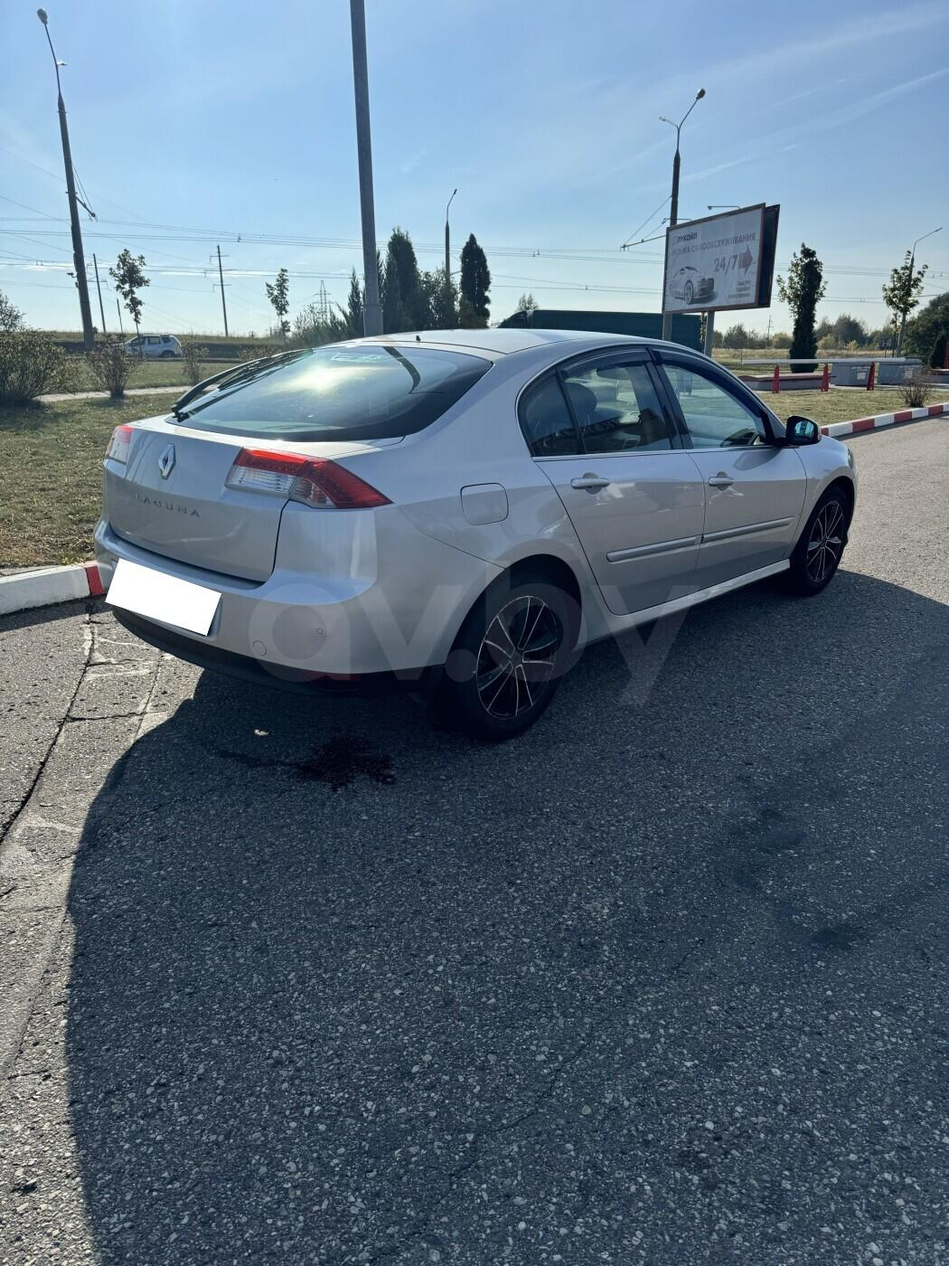Laguna_2007-2011: (95, 330, 856, 742)
